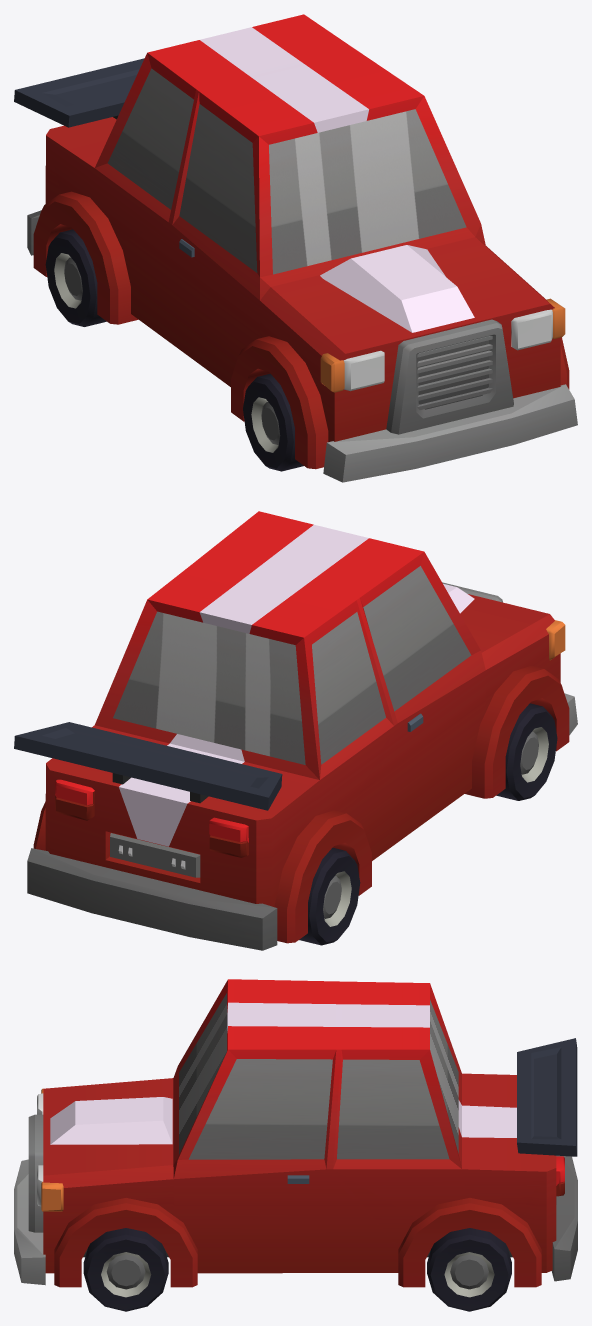
The model's file is SportCar_5.glb.
The picture shows the model from 3 angles, top to bottom: view 1: azimuth 30°, elevation 25°; view 2: azimuth 150°, elevation 25°; view 3: azimuth 270°, elevation 25°; orthographic projection. The views are drawn at different scales.
Parts seen in each view (by area): view 1: SportCar_5, Wheel_fr, Wheel_br; view 2: SportCar_5, Wheel_br, Wheel_fr; view 3: SportCar_5, Wheel_fl, Wheel_bl.
Part boxes in pixels (x1,y1,x2,y2): SportCar_5: (14,14,577,482); Wheel_fr: (243,373,303,471); Wheel_br: (45,229,106,326); SportCar_5: (14,511,577,950); Wheel_br: (299,847,360,945); Wheel_fr: (496,703,557,800); SportCar_5: (14,979,577,1287); Wheel_fl: (83,1228,168,1311); Wheel_bl: (427,1228,511,1311).
Bounding box in the file's own units: 1.12 × 1.1 × 2.33.
7 materials, 7 textured.
